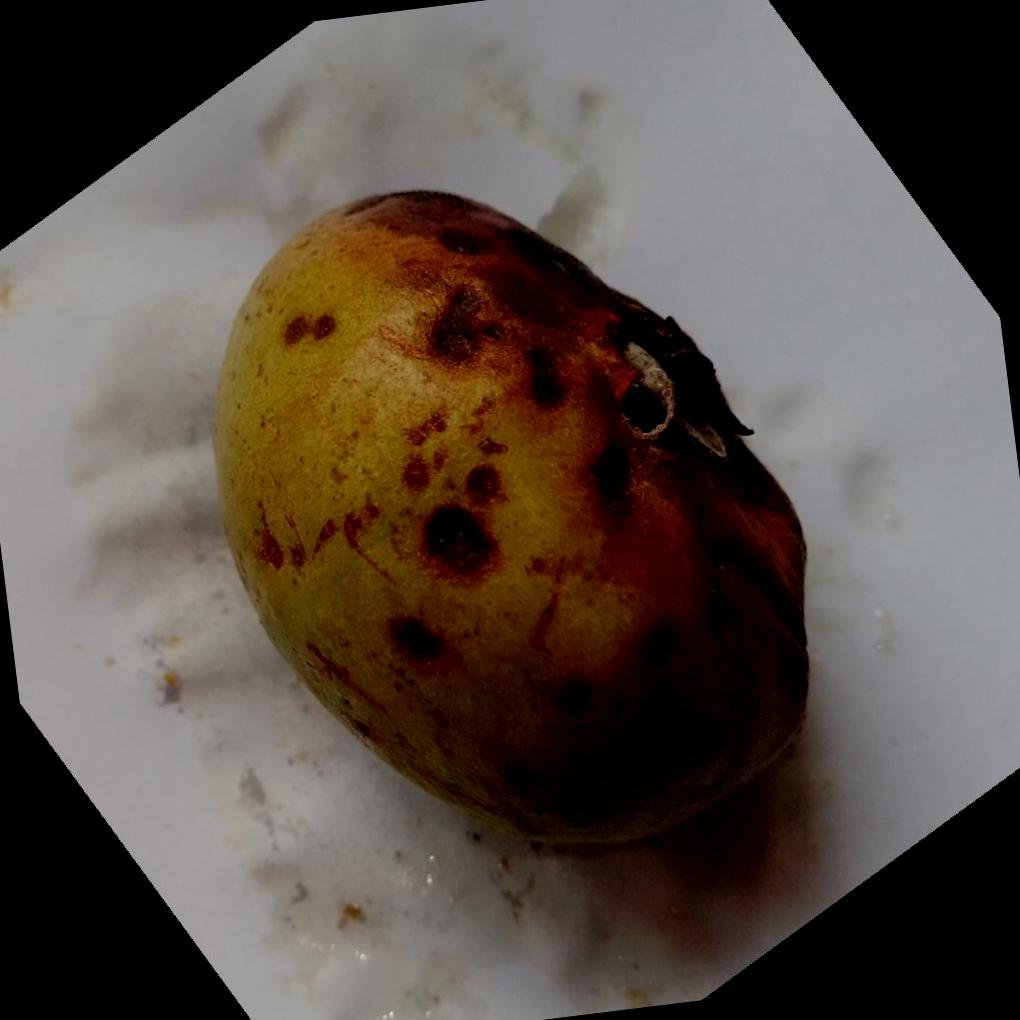FreshOrange: (215, 188, 815, 857)
